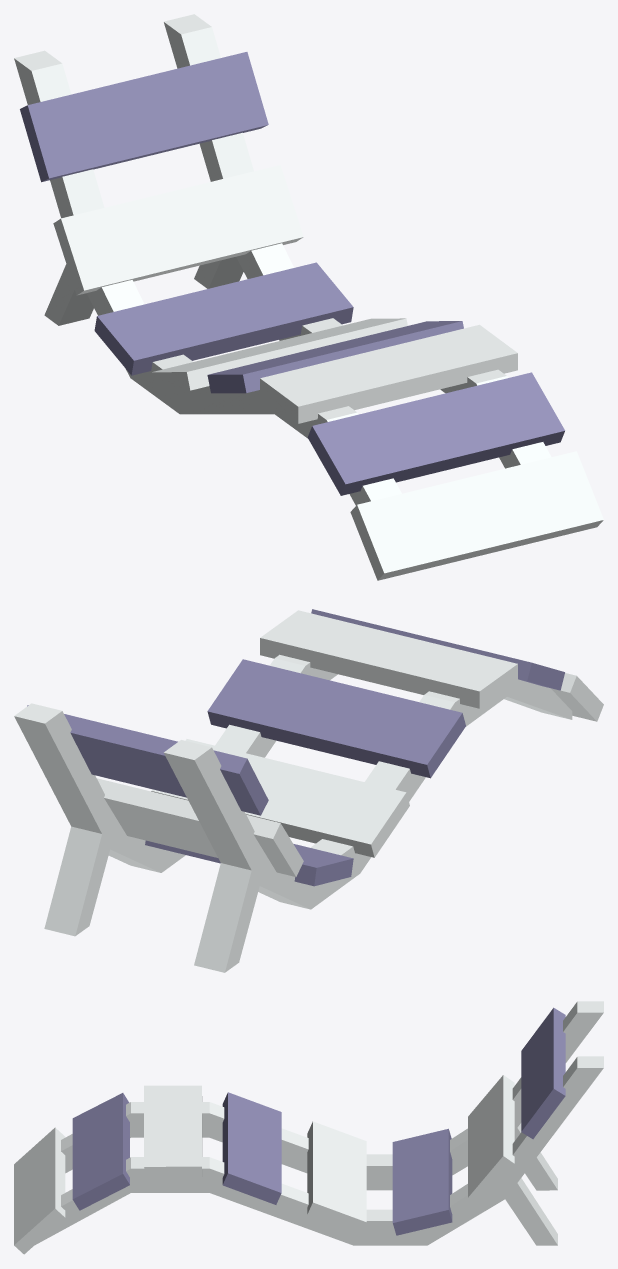
File: LoungeChair.fbx
3 views of the same model, one above another, from view 1: azimuth 30°, elevation 25°; view 2: azimuth 150°, elevation 25°; view 3: azimuth 270°, elevation 25° (orthographic). The views are drawn at different scales.
Visible parts, largest first — view 1: LoungeChair; view 2: LoungeChair; view 3: LoungeChair.
Boxes of the visible parts, x1,y1,x2,y2 form: LoungeChair: (14,14,603,580); LoungeChair: (14,609,603,972); LoungeChair: (14,1001,603,1254).
Bounding box in the file's own units: 156 × 161 × 479.
